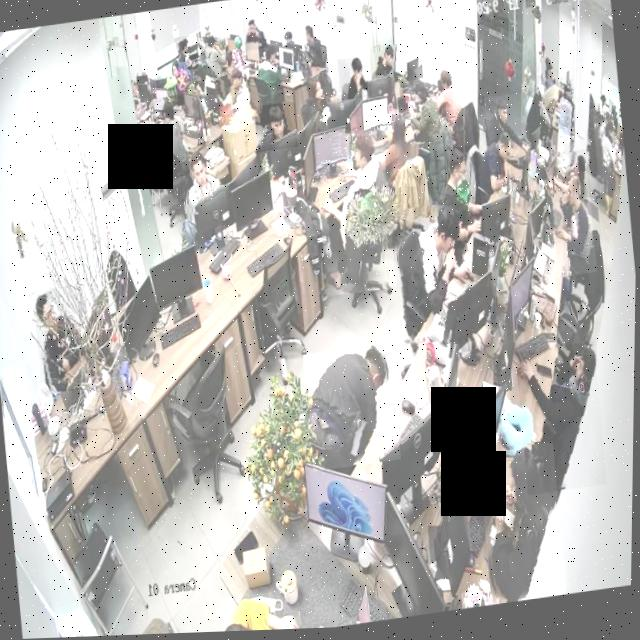person: (477, 445, 570, 609), (311, 129, 399, 300), (515, 346, 610, 499), (390, 204, 478, 353), (302, 345, 403, 474), (32, 284, 91, 394), (433, 147, 487, 255), (546, 175, 599, 282), (369, 113, 419, 193), (178, 143, 228, 216), (221, 590, 303, 633), (151, 95, 191, 181), (468, 130, 516, 200), (483, 97, 531, 162), (592, 117, 622, 216), (428, 68, 467, 138), (404, 79, 443, 149), (213, 66, 257, 128), (253, 103, 299, 155), (549, 153, 592, 207), (300, 75, 337, 125), (337, 58, 371, 103), (199, 33, 230, 82), (302, 22, 329, 76), (373, 46, 401, 84), (241, 18, 268, 53), (173, 36, 199, 72)
